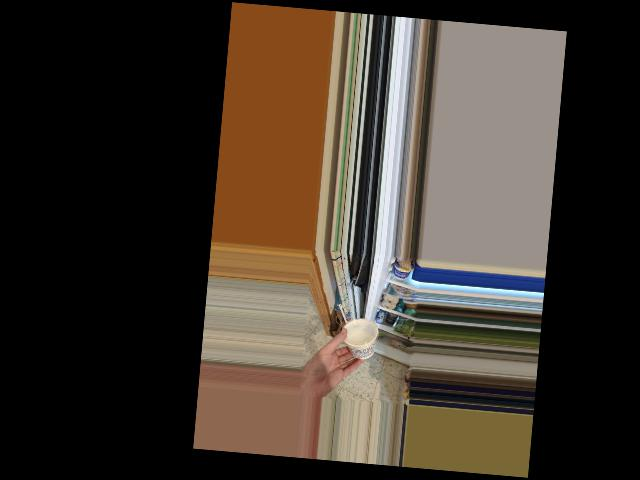cotage: (341, 319, 376, 360)
